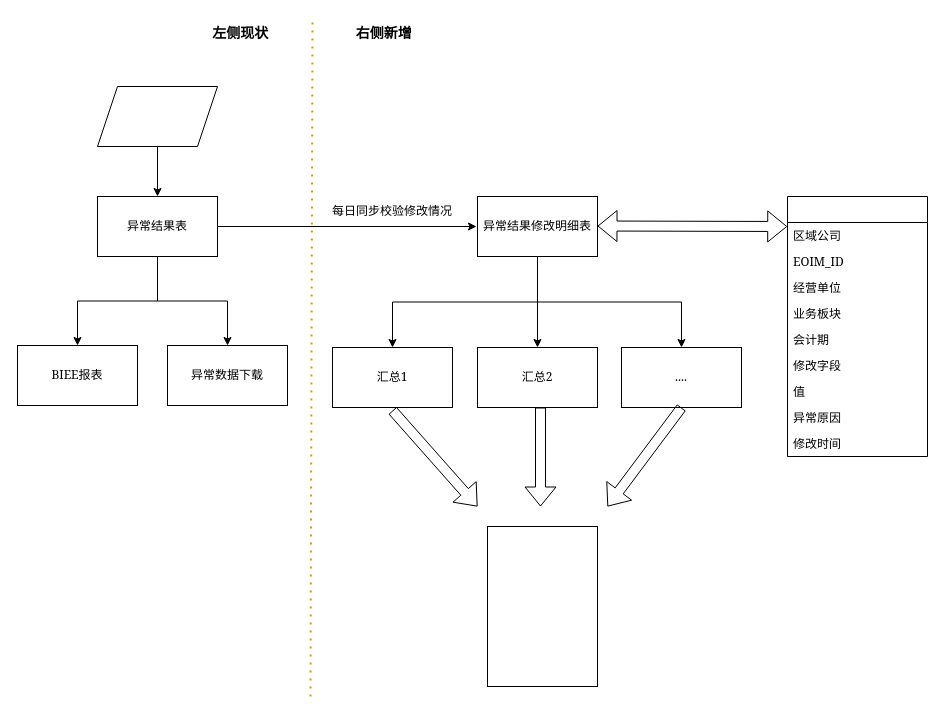
This 945x715 diagram has some shape labels left out. Each missing label, with the box of its shape:
异常结果变更记录表: (786, 196, 928, 456)
校验: (96, 86, 218, 146)
维度1 维度2 ... 修改票数 总票数 修改占比 7天修改票数 7天修改占比 14天修改票数 14天修改占比: (486, 526, 598, 686)
